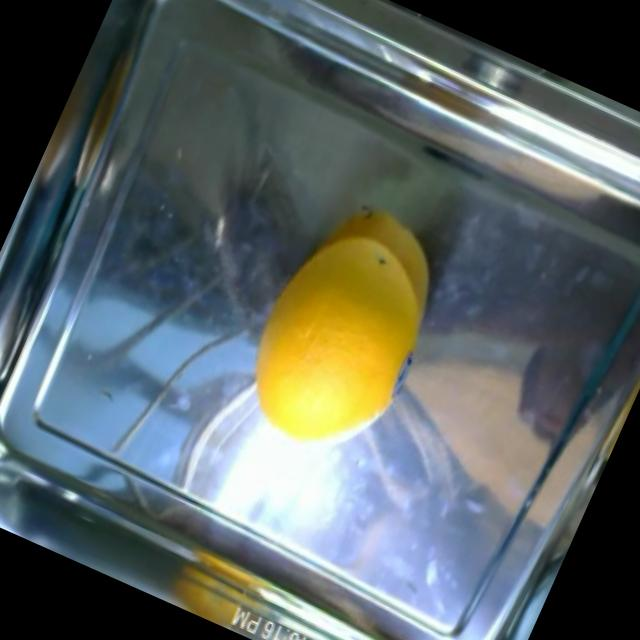Fruit: (259, 178, 475, 406)
